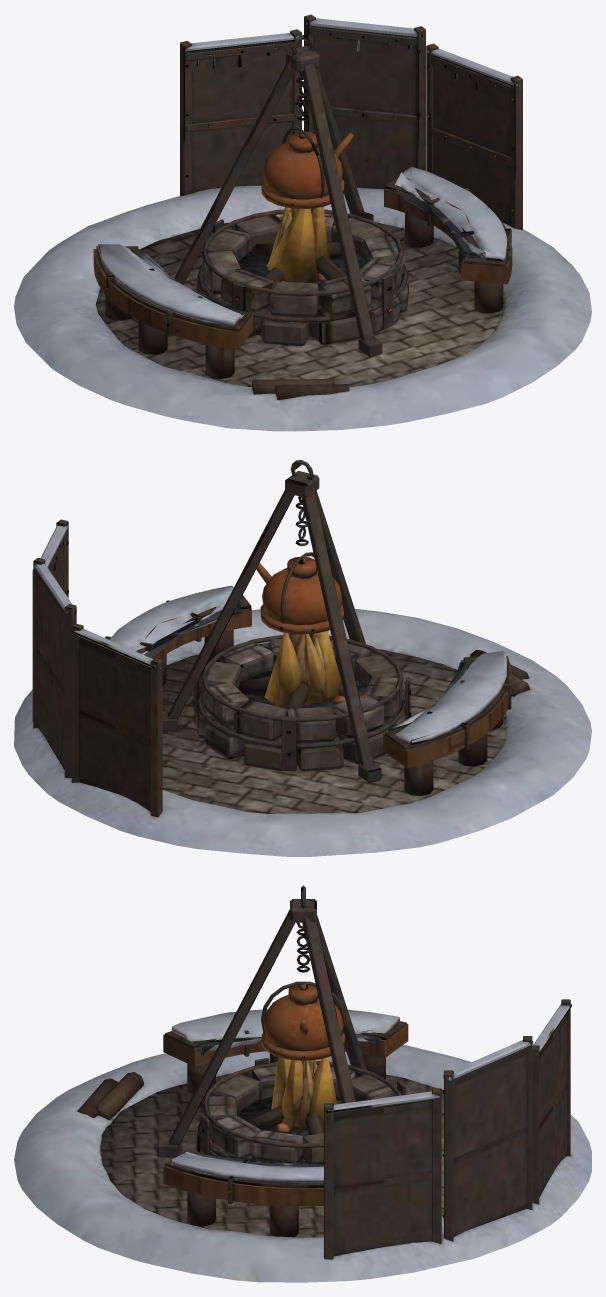
File: campfire.glb
The picture shows the model from 3 angles, top to bottom: view 1: azimuth 30°, elevation 25°; view 2: azimuth 150°, elevation 25°; view 3: azimuth 270°, elevation 25°; orthographic projection.
Visible parts, largest first — view 1: model; view 2: model; view 3: model.
Boxes of the visible parts, bbox=[...] form: model: bbox=[14, 14, 591, 431]; model: bbox=[14, 460, 591, 856]; model: bbox=[14, 885, 591, 1282].
Size of the model in its own units: 4.28 by 2.25 by 4.28.
Materials: 2 (2 with a texture image).
